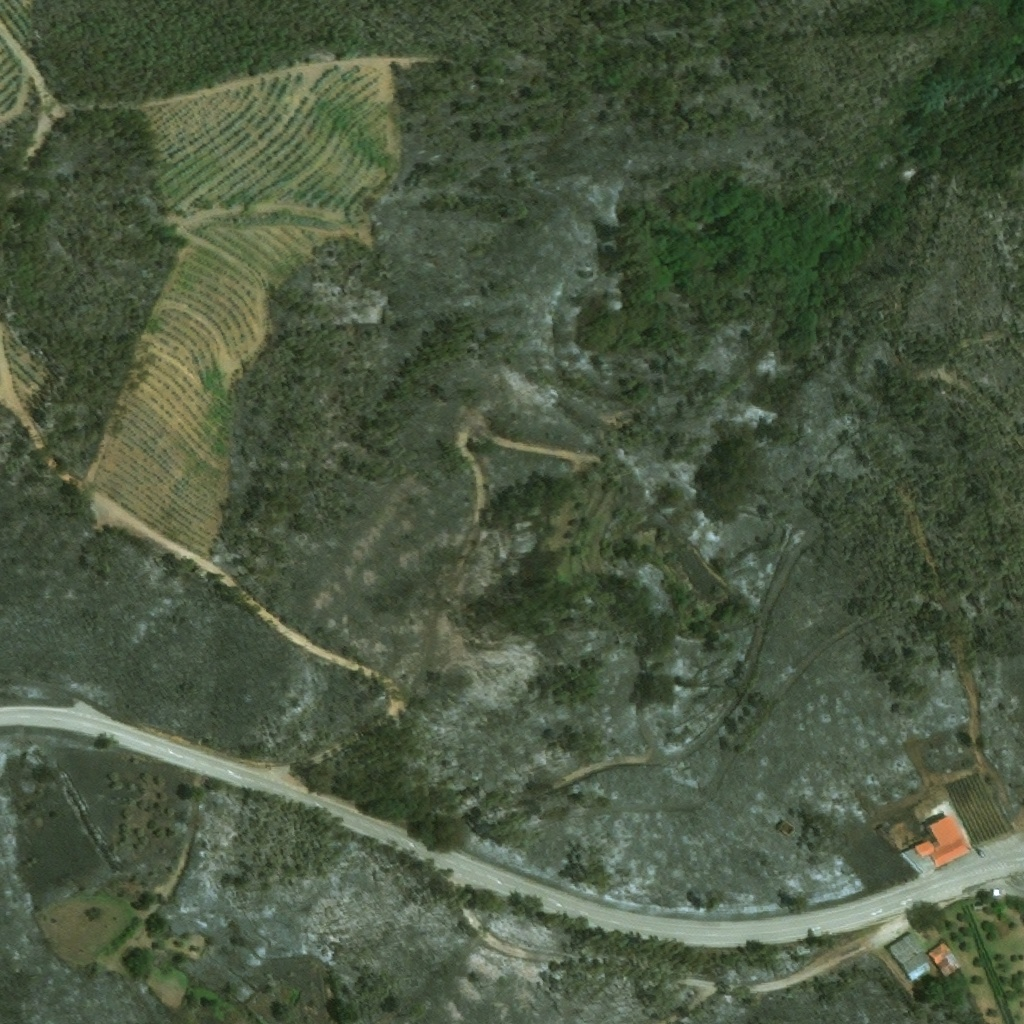0 no-damage: (913, 813, 973, 868), (887, 933, 922, 968), (928, 940, 956, 979), (902, 846, 937, 876), (901, 951, 933, 982), (945, 951, 963, 972)
